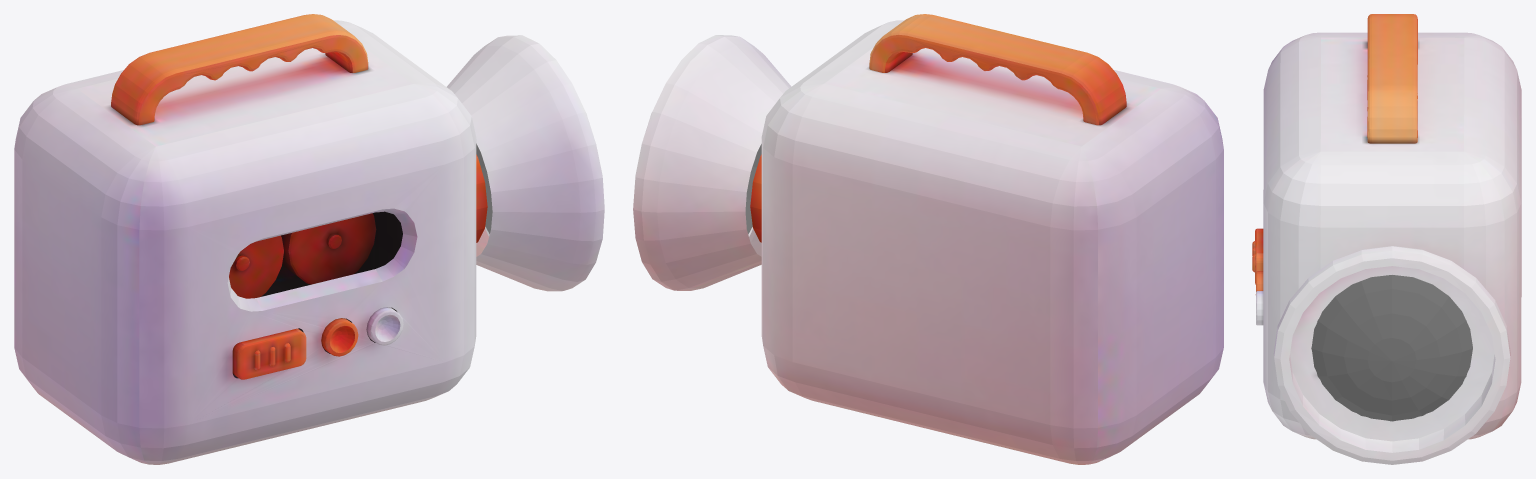
Rendered from camera.001.glb.
The picture shows the model from 3 angles, left to right: view 1: azimuth 30°, elevation 25°; view 2: azimuth 150°, elevation 25°; view 3: azimuth 270°, elevation 25°; orthographic projection. The views are drawn at different scales.
Visible parts, largest first — view 1: Camera.001; view 2: Camera.001; view 3: Camera.001.
Boxes of the visible parts, x1,y1,x2,y2 form: Camera.001: [14, 14, 604, 464]; Camera.001: [633, 14, 1223, 464]; Camera.001: [1252, 14, 1521, 464].
Size of the model in its own units: 0.2825 by 0.1995 by 0.1503.
2 materials, 1 textured.
